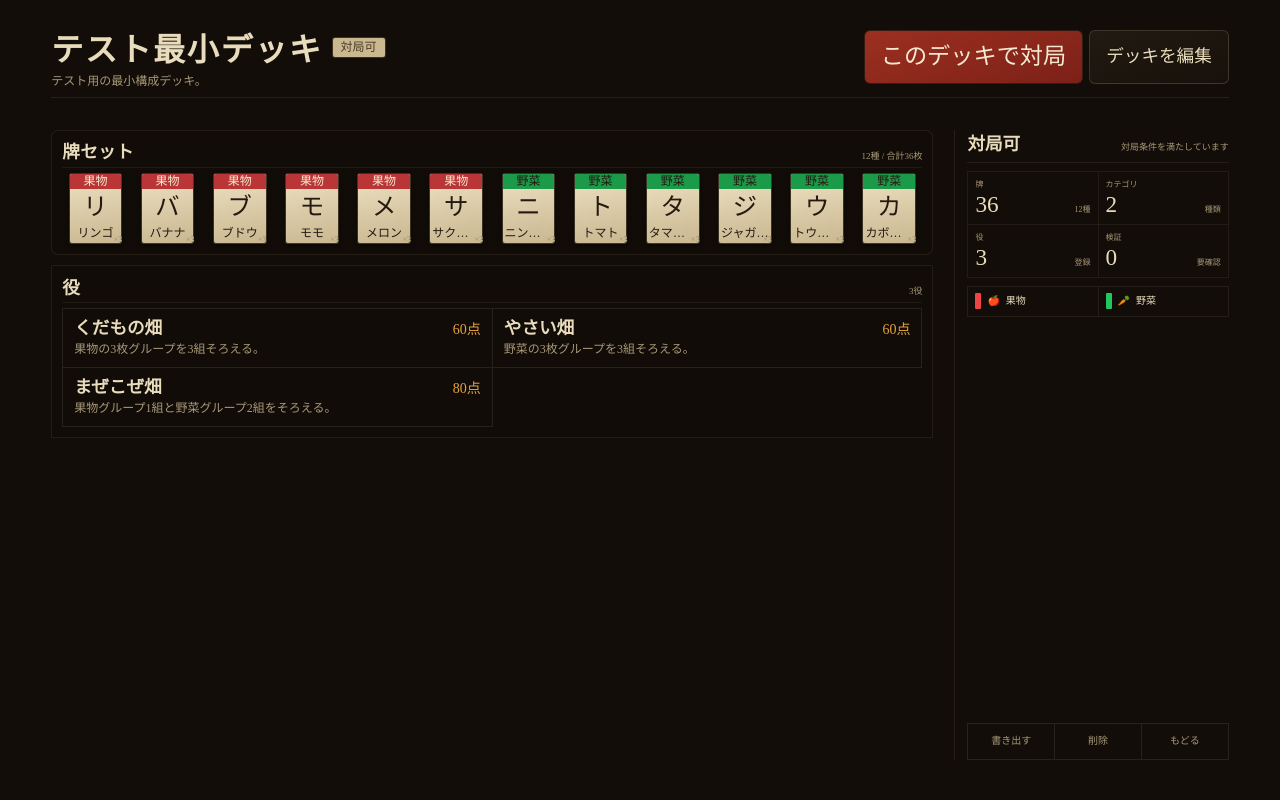
Test: DeckDetailScreen deletion safety › やめるを選ぶと削除しない
Click the button "削除". click: [1099, 742]
box: [1055,724,1142,760]
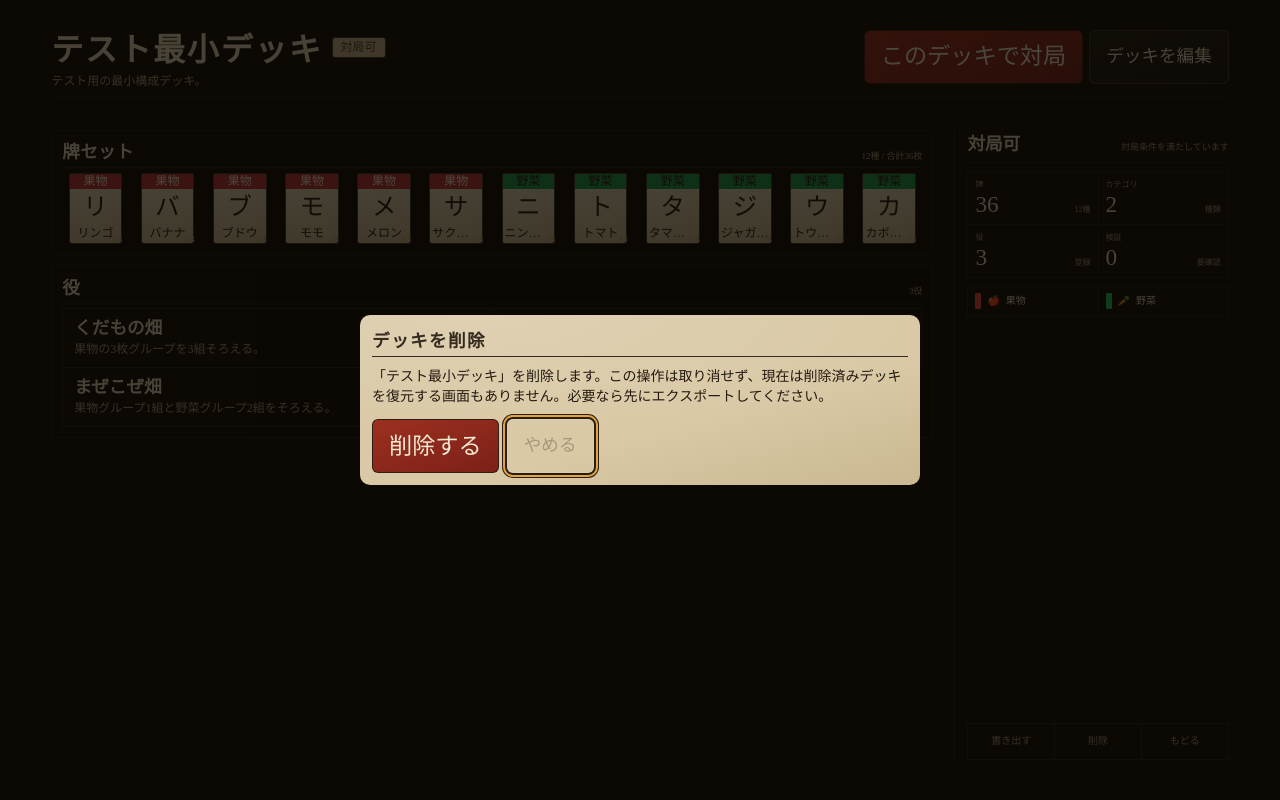
Click the button "やめる". click: [550, 446]
box: [507,419,594,473]
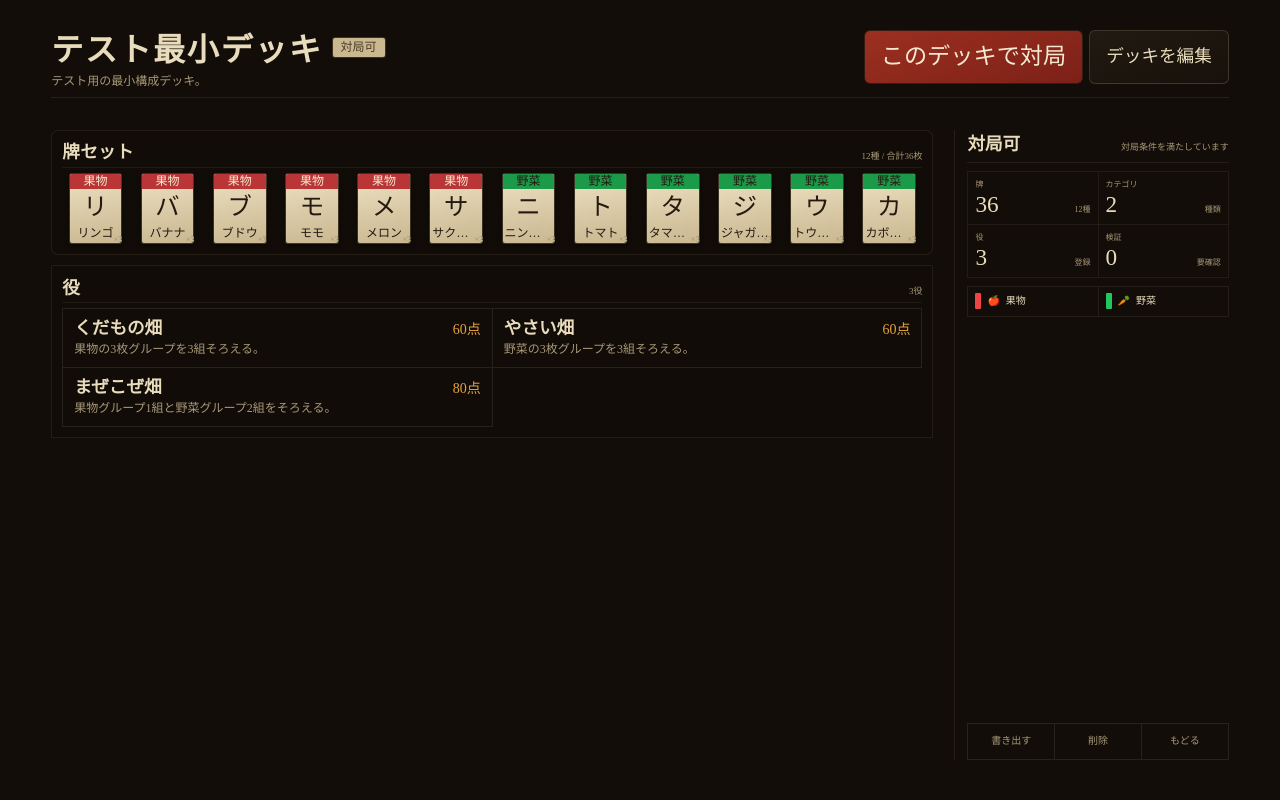
Result: the text "デッキを削除" is gone
